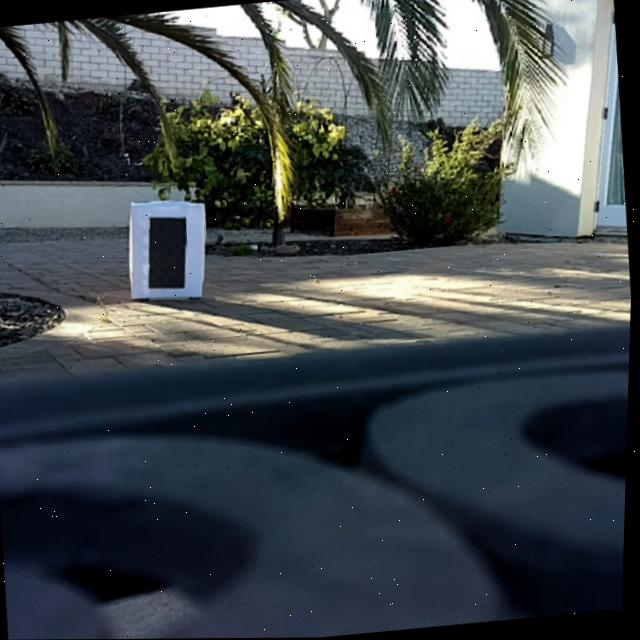led: (144, 215, 193, 291)
